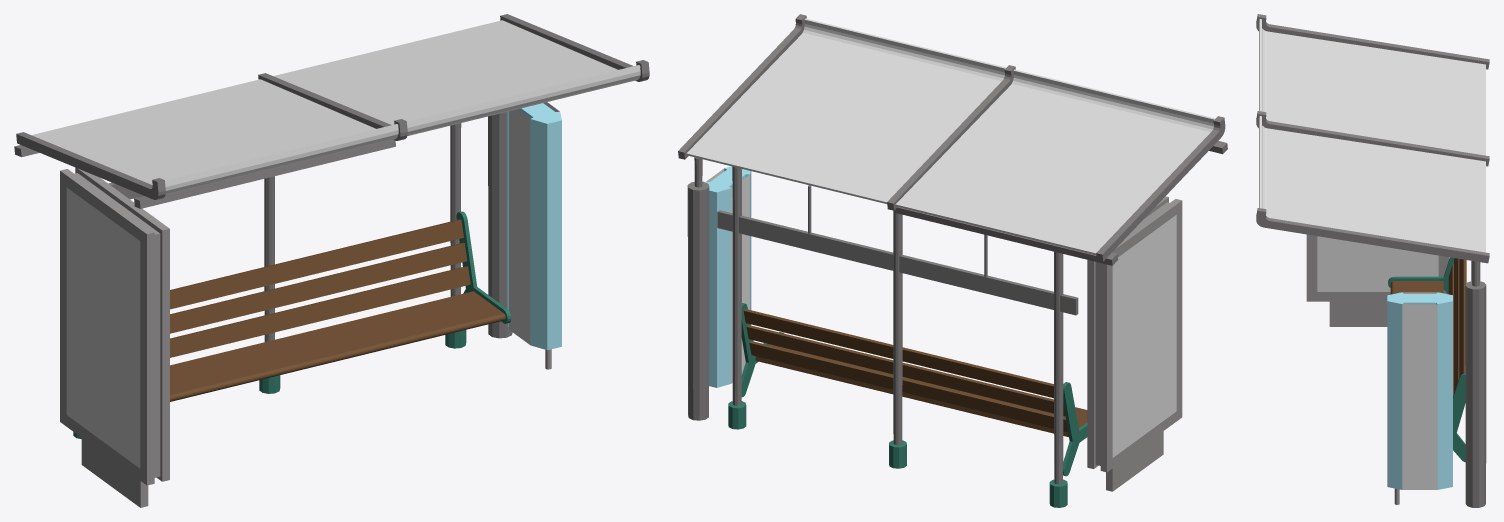
Rendered from D1_BUS_STOP.fbx.
3 views of the same model, side by side, from view 1: azimuth 30°, elevation 25°; view 2: azimuth 150°, elevation 25°; view 3: azimuth 270°, elevation 25° (orthographic). The views are drawn at different scales.
Parts seen in each view (by area): view 1: D1_BUS_STOP; view 2: D1_BUS_STOP; view 3: D1_BUS_STOP.
Part boxes in pixels (left/top/right/bottom): D1_BUS_STOP: left=14, top=14, right=649, bottom=507; D1_BUS_STOP: left=678, top=14, right=1227, bottom=507; D1_BUS_STOP: left=1256, top=14, right=1489, bottom=507.
Size of the model in its own units: 531 by 369 by 261.
7 materials, 2 textured.
